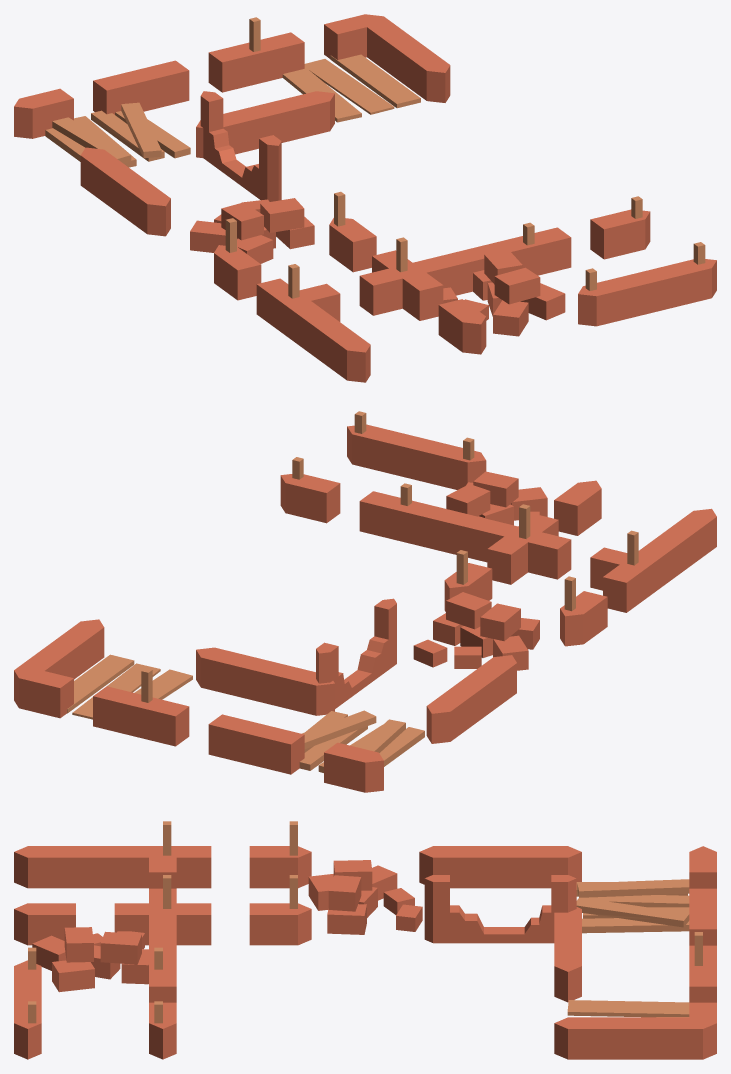
File: Casa 11 Rota.obj
3 views of the same model, one above another, from view 1: azimuth 30°, elevation 25°; view 2: azimuth 150°, elevation 25°; view 3: azimuth 270°, elevation 25° (orthographic).
Bounding box in the file's own units: 3.21 × 0.5 × 5.21.
